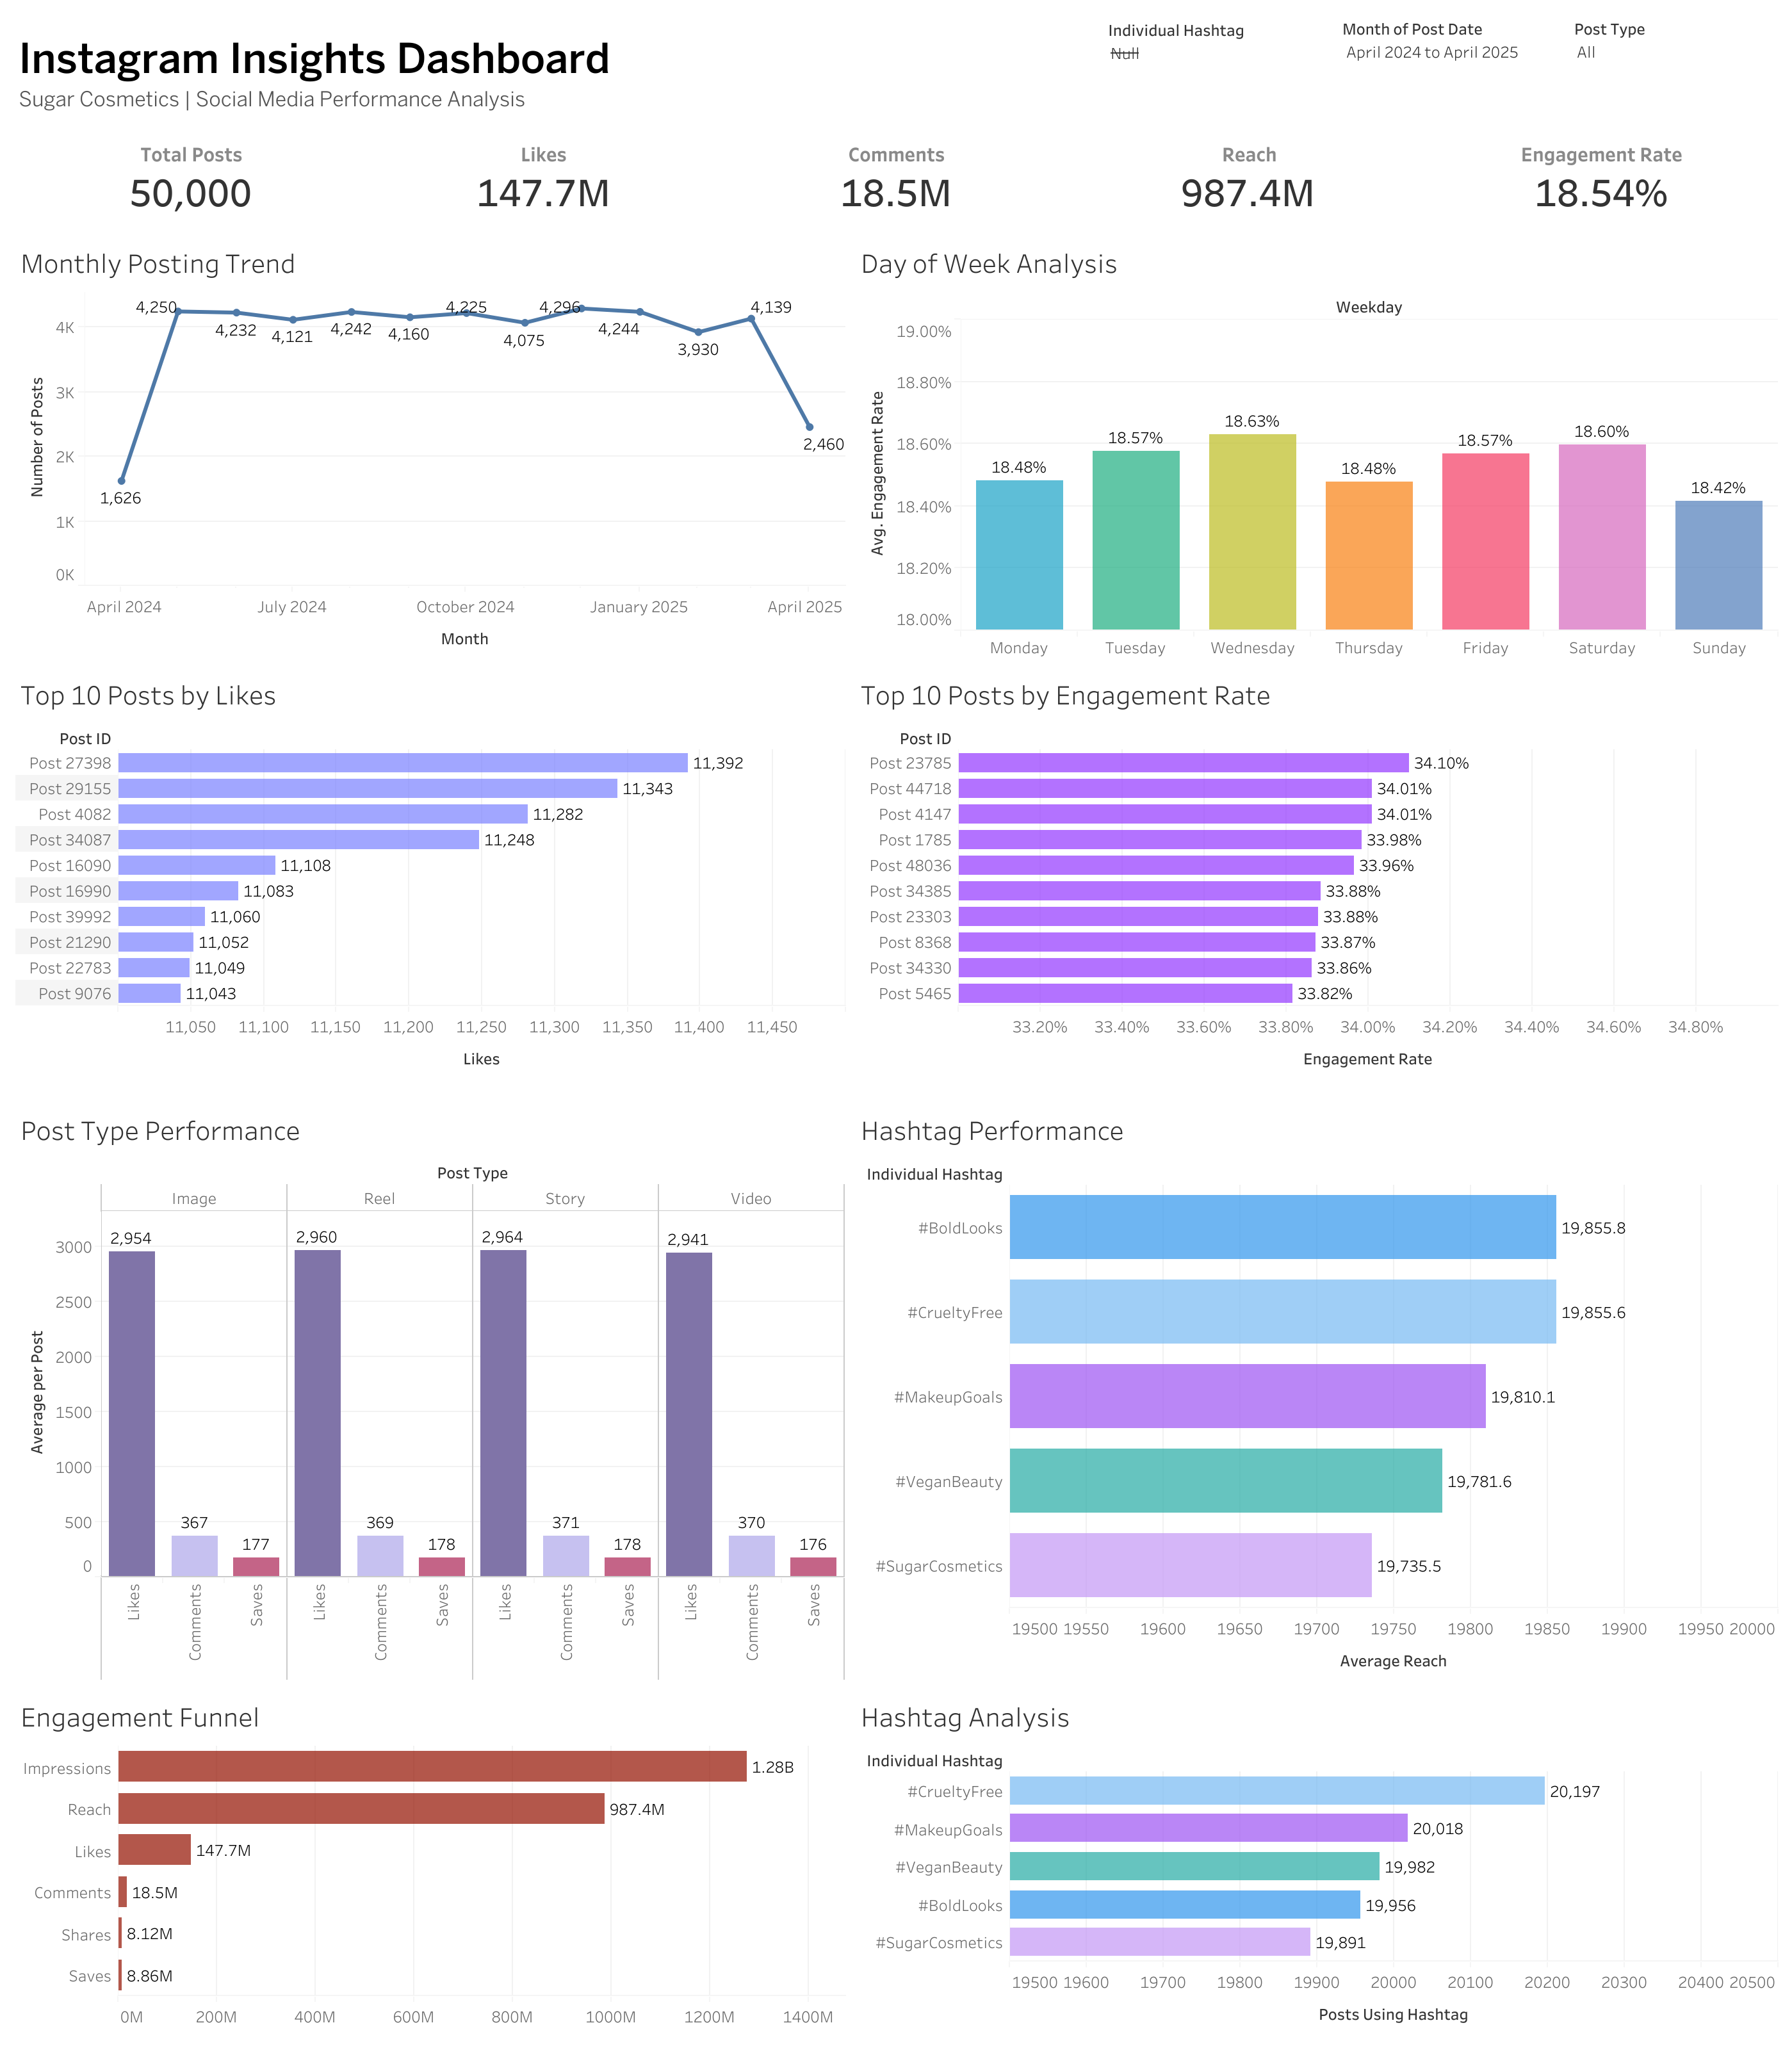

Layout of this report page (visuals, bound fields, positions):
{"tool":"tableau","page":{"name":"Dashboard 1","canvas":[1400,1600],"ordinal":0},"visuals":[{"type":"text","box":[8,8,849,97]},{"type":"filter","title":"Monthly Posting Trend","param":"[federated.0x7hbkf0zy6ajy141hcz30mje4a8].[tmn:Post Date:qk]","box":[1048,12,168,69]},{"type":"filter","title":"Post Type Performance","param":"[federated.0x7hbkf0zy6ajy141hcz30mje4a8].[none:Post Type:nk]","box":[1229,12,169,74]},{"type":"filter","title":"Hashtag Performance","param":"[federated.08h8t050k3luv0172ta5z115u8jh].[none:Pivot Field Values:nk]","box":[865,13,159,81]},{"type":"worksheet","title":"KPI Overview","mark":"Text","box":[8,105,1384,76]},{"type":"worksheet","title":"Monthly Posting Trend","mark":"Automatic","rows":["Calculation_2678513427402752"],"cols":["Post Date"],"box":[8,181,656,337]},{"type":"worksheet","title":"Day of Week Analysis","mark":"Bar","rows":["Calculation_2678513427681281"],"cols":["Calculation_2678513535827972"],"box":[664,181,728,337]},{"type":"worksheet","title":"Top 10 Posts by Likes","mark":"Automatic","rows":["Post ID"],"cols":["Likes"],"box":[8,518,656,340]},{"type":"worksheet","title":"Top 10 Posts by Engagement Rate","mark":"Automatic","rows":["Post ID"],"cols":["Calculation_2678513427681281"],"box":[664,518,728,340]},{"type":"worksheet","title":"Post Type Performance","mark":"Bar","cols":["Post Type"],"box":[8,858,656,458]},{"type":"worksheet","title":"Hashtag Performance","mark":"Automatic","rows":["Pivot Field Values"],"cols":["Reach"],"box":[664,858,728,458]},{"type":"worksheet","title":"Engagement Funnel","mark":"Bar","box":[8,1316,656,276]},{"type":"worksheet","title":"Hashtag Analysis","mark":"Automatic","rows":["Pivot Field Values"],"cols":["Post ID"],"box":[664,1316,728,276]}]}

Visuals, with their boxes in screenshot pixels (x1, y1, x2, y2), scaled from the page's 1400x1600 canvas onto the 1792x2048 screenshot:
text: [10,10,1097,134]
"Monthly Posting Trend" filter: [1342,15,1556,104]
"Post Type Performance" filter: [1573,15,1789,110]
"Hashtag Performance" filter: [1107,17,1311,120]
"KPI Overview" worksheet (Text marks): [10,134,1782,232]
"Monthly Posting Trend" worksheet: [10,232,850,663]
"Day of Week Analysis" worksheet (Bar marks): [850,232,1782,663]
"Top 10 Posts by Likes" worksheet: [10,663,850,1098]
"Top 10 Posts by Engagement Rate" worksheet: [850,663,1782,1098]
"Post Type Performance" worksheet (Bar marks): [10,1098,850,1684]
"Hashtag Performance" worksheet: [850,1098,1782,1684]
"Engagement Funnel" worksheet (Bar marks): [10,1684,850,2038]
"Hashtag Analysis" worksheet: [850,1684,1782,2038]
